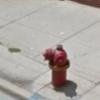a fire hydrant: (44, 44, 72, 89)
